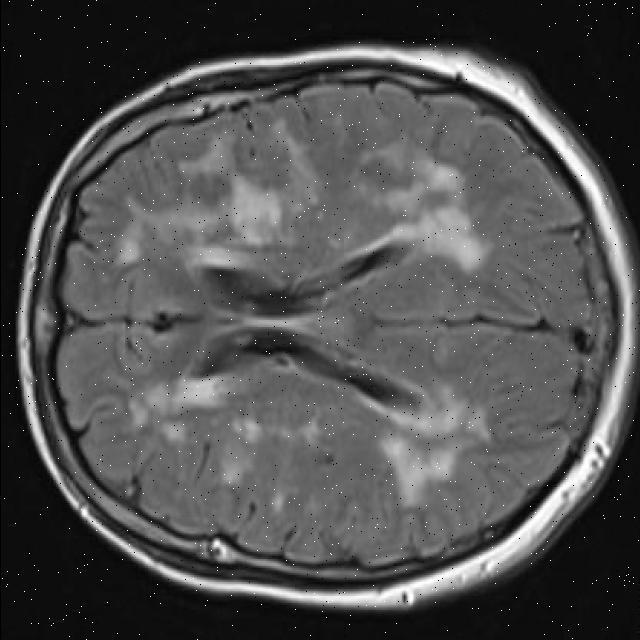No_Tumor: (18, 45, 636, 609)
